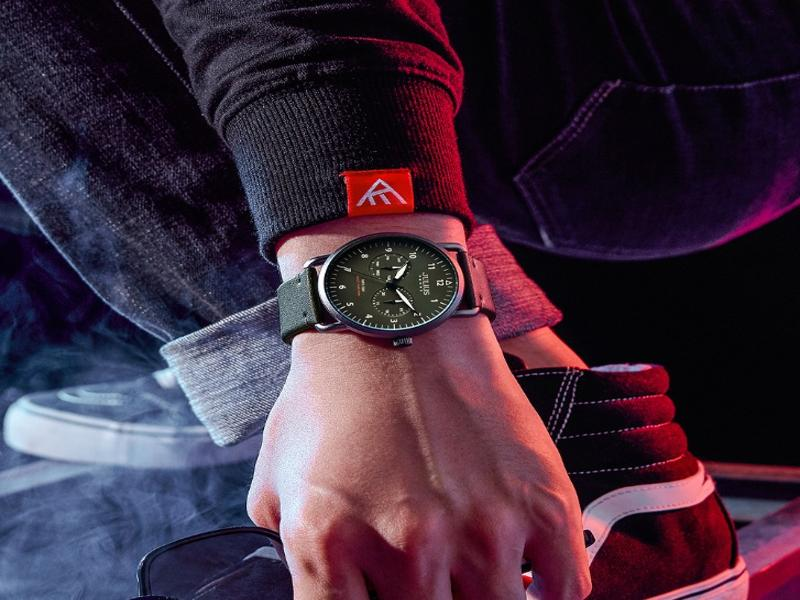watch: (269, 232, 497, 350)
